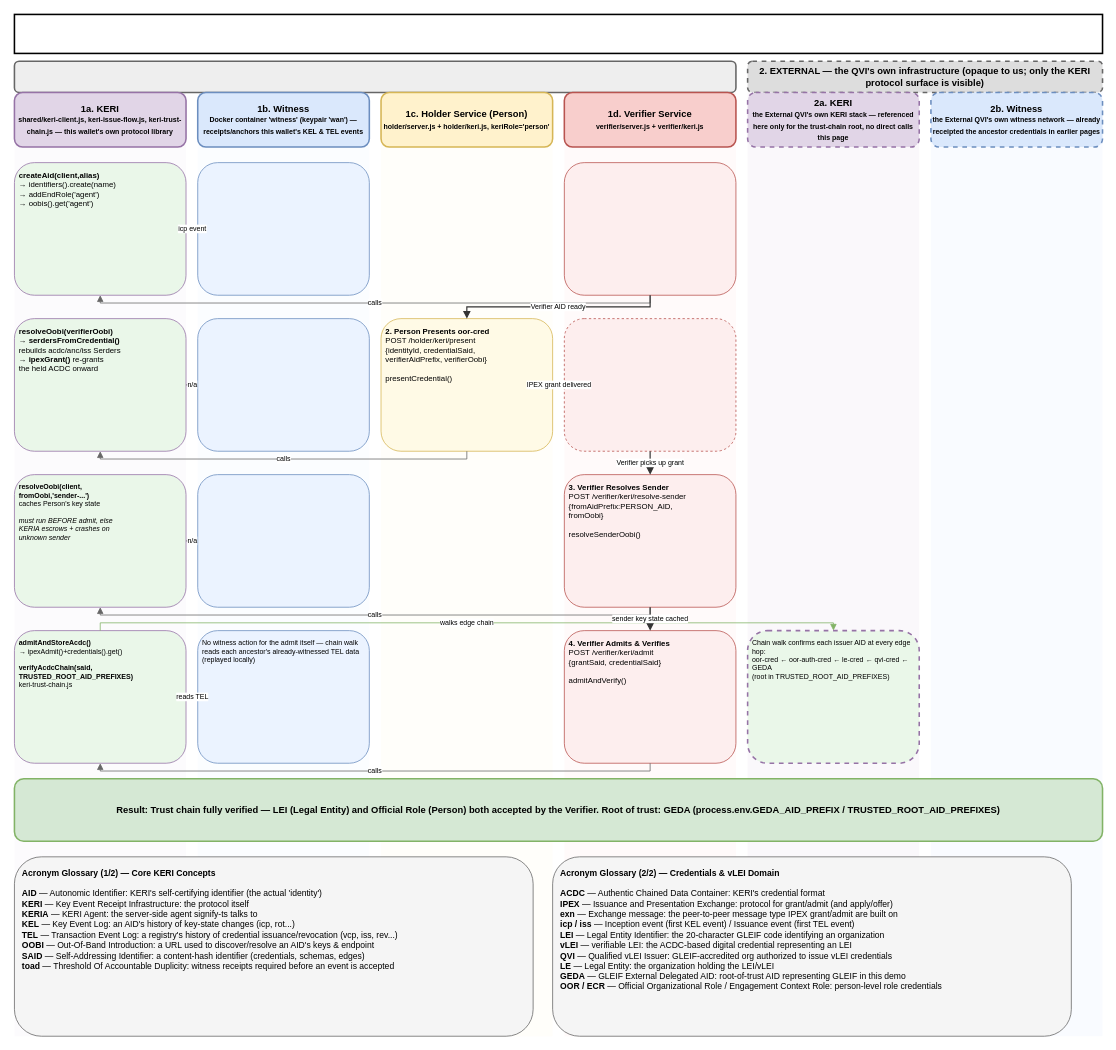
The diagram is 1116 pixels wide and 1050 high, and some of its shapes have lost their labels. The shapes that lost their labels are listed below. From the top down, each one's centre as x and y in pixels, then its label:
At point 558,33: "PAGE 3 — Person Presents Credential; Verifier Validates the Full Trust Chain".
At point 374,76: "1. INTERNAL — this wallet's own infrastructure (full visibility / control)".
At point 283,228: "Witness 'wan' receipts Verifier's inception (icp) event".
At point 650,228: "1. Create Verifier AID POST /verifier/keri/create {name} createKeriAid()".
At point 283,384: "No witness action — presentation grant is an exn message".
At point 650,384: "Presentation grant arrives in Verifier's KERIA mailbox".
At point 283,540: "N/A — key-state query only".
